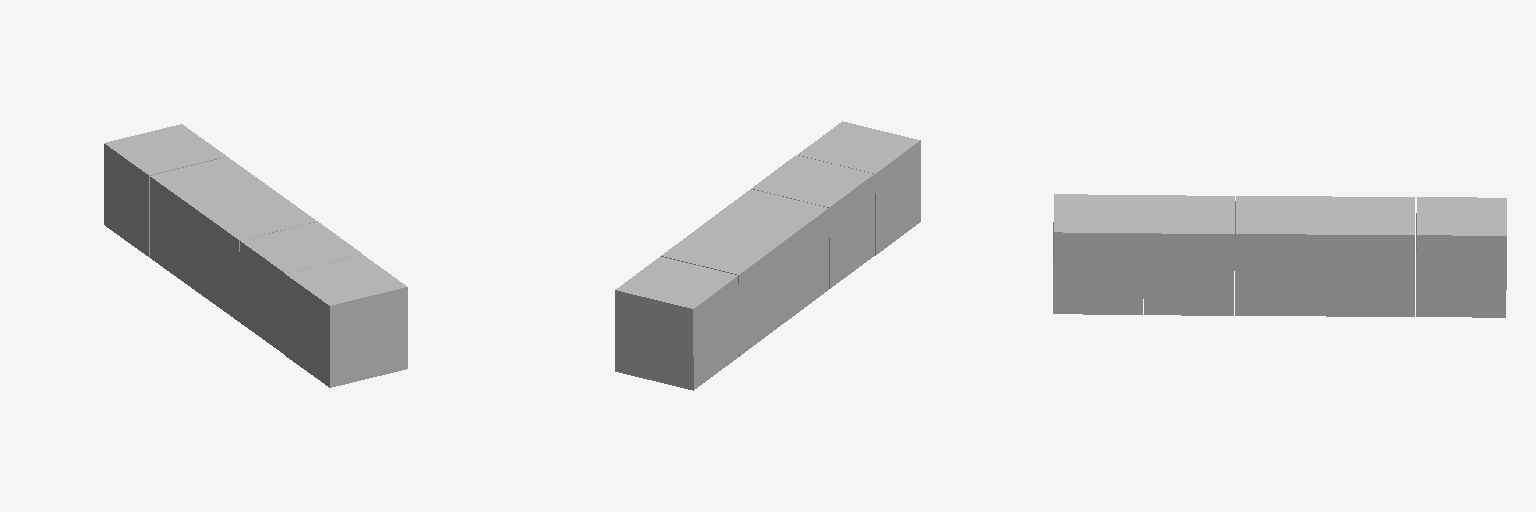
File: break7.obj
3 views of the same model, side by side, from view 1: azimuth 30°, elevation 25°; view 2: azimuth 150°, elevation 25°; view 3: azimuth 270°, elevation 25° (orthographic).
Parts seen in each view (by area): view 1: Cube.010_Cube.000_Cube.010_Cube.001, Cube.006_Cube.000_Cube.006_Cube.001, Cube.008_Cube.000_Cube.008_Cube.001, Cube.009_Cube.000_Cube.009_Cube.001, Cube.007_Cube.000_Cube.007_Cube.001; view 2: Cube.006_Cube.000_Cube.006_Cube.001, Cube.009_Cube.000_Cube.009_Cube.001, Cube.010_Cube.000_Cube.010_Cube.001, Cube.007_Cube.000_Cube.007_Cube.001, Cube.008_Cube.000_Cube.008_Cube.001; view 3: Cube.006_Cube.000_Cube.006_Cube.001, Cube.010_Cube.000_Cube.010_Cube.001, Cube.009_Cube.000_Cube.009_Cube.001, Cube.008_Cube.000_Cube.008_Cube.001, Cube.007_Cube.000_Cube.007_Cube.001.
Boxes of the visible parts, x1=… form: Cube.010_Cube.000_Cube.010_Cube.001: x1=285, y1=254, x2=407, y2=387; Cube.006_Cube.000_Cube.006_Cube.001: x1=104, y1=124, x2=226, y2=257; Cube.008_Cube.000_Cube.008_Cube.001: x1=194, y1=189, x2=317, y2=321; Cube.009_Cube.000_Cube.009_Cube.001: x1=240, y1=222, x2=361, y2=354; Cube.007_Cube.000_Cube.007_Cube.001: x1=150, y1=157, x2=271, y2=289; Cube.006_Cube.000_Cube.006_Cube.001: x1=615, y1=256, x2=738, y2=390; Cube.009_Cube.000_Cube.009_Cube.001: x1=751, y1=155, x2=874, y2=288; Cube.010_Cube.000_Cube.010_Cube.001: x1=798, y1=121, x2=920, y2=255; Cube.007_Cube.000_Cube.007_Cube.001: x1=661, y1=222, x2=783, y2=356; Cube.008_Cube.000_Cube.008_Cube.001: x1=707, y1=189, x2=828, y2=322; Cube.006_Cube.000_Cube.006_Cube.001: x1=1416, y1=197, x2=1506, y2=317; Cube.010_Cube.000_Cube.010_Cube.001: x1=1053, y1=194, x2=1143, y2=314; Cube.009_Cube.000_Cube.009_Cube.001: x1=1144, y1=195, x2=1234, y2=315; Cube.008_Cube.000_Cube.008_Cube.001: x1=1235, y1=196, x2=1325, y2=315; Cube.007_Cube.000_Cube.007_Cube.001: x1=1325, y1=196, x2=1414, y2=316.
Bounding box in the file's own units: 1.2 × 1.24 × 5.99.